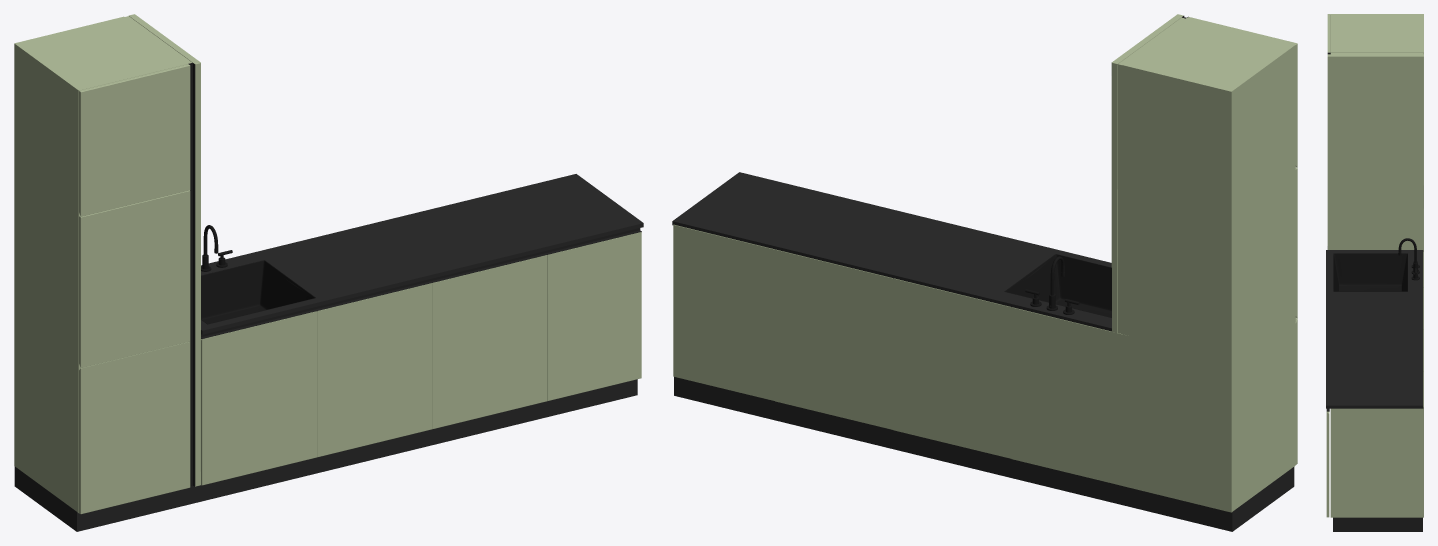
Rendered from Kuhnya_00.glb.
3 renders of one model, left to right at view 1: azimuth 30°, elevation 25°; view 2: azimuth 150°, elevation 25°; view 3: azimuth 270°, elevation 25°, orthographic. The views are drawn at different scales.
Parts seen in each view (by area): view 1: Box8449, Group005, Line110, Group004, Object411, Group007, Group008, Group009, Line108, Box8448, Box8450, Box8433; view 2: Box8449, Line110, Box8454, Box8453, Box8455, Box8452, Line108, Group004, Box8448, Group005; view 3: Group004, Line110, Box8452, Box8449, Box8448, Line108, Group009, SUTTON LEVER-HANDLE 8_in WIDESPREAD FAUCET.
Boxes of the visible parts, x1,y1,x2,y2 form: Box8449: (14,16,187,512); Group005: (79,190,190,514); Line110: (201,174,643,334); Group004: (79,14,200,486); Object411: (201,311,317,485); Group007: (317,283,432,457); Group008: (432,255,547,428); Group009: (547,232,641,400); Line108: (14,379,637,531); Box8448: (201,260,315,324); Box8450: (188,62,195,487); Box8433: (201,228,641,338); Box8449: (1122,18,1295,512); Line110: (672,172,1111,331); Box8454: (893,278,1011,458); Box8453: (775,249,893,429); Box8455: (1011,307,1129,487); Box8452: (673,224,775,401); Line108: (674,377,1294,531); Group004: (1111,14,1297,333); Box8448: (1004,254,1111,317); Group005: (1295,167,1297,464); Group004: (1327,14,1423,251); Line110: (1326,250,1423,408); Box8452: (1330,371,1423,517); Box8449: (1330,14,1423,53); Box8448: (1333,253,1407,291); Line108: (1333,517,1422,531); Group009: (1326,411,1329,517); SUTTON LEVER-HANDLE 8_in WIDESPREAD FAUCET: (1398,238,1419,280).
Bounding box in the file's own units: 2.93 × 2.2 × 0.6104.
